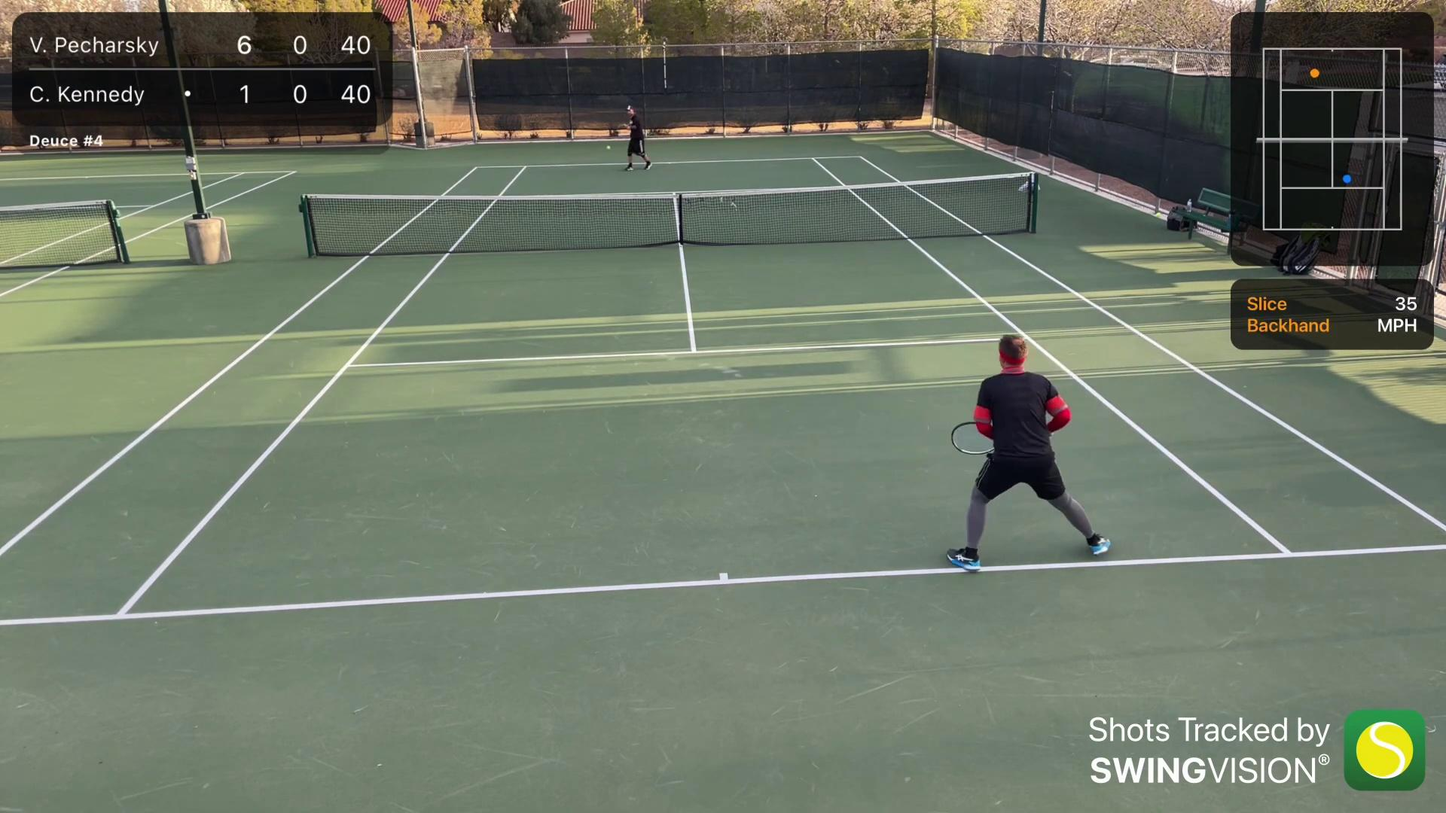ball: (604, 144, 613, 151)
